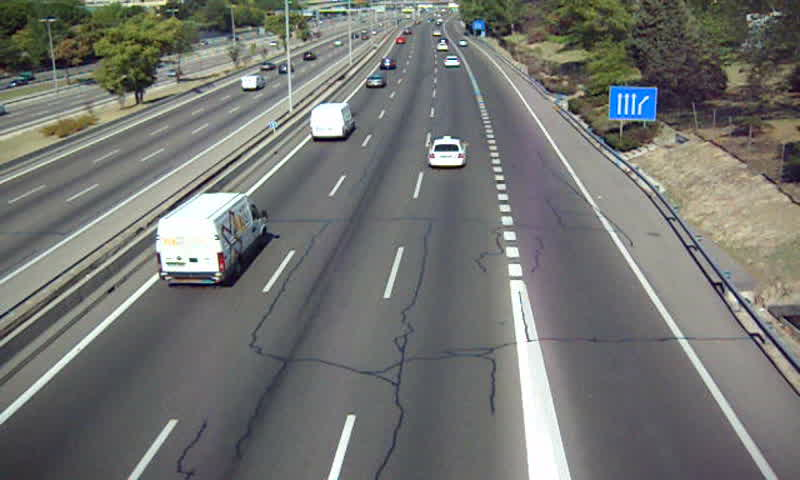car: (428, 138, 468, 169), (364, 75, 386, 90), (379, 56, 396, 72), (442, 56, 461, 69)
van: (155, 192, 269, 285), (310, 103, 356, 139)
